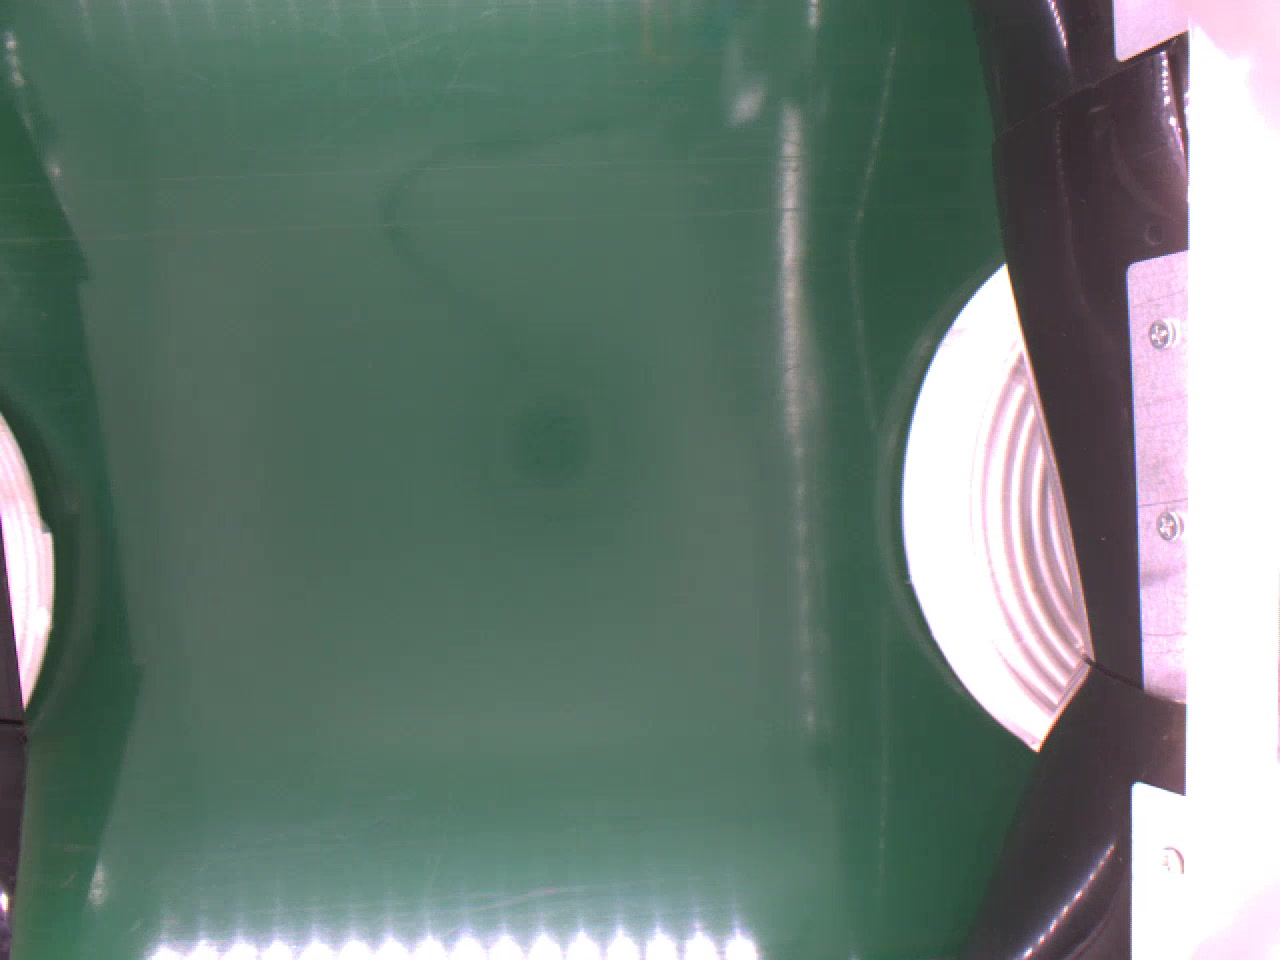white: (894, 262, 1092, 757)
